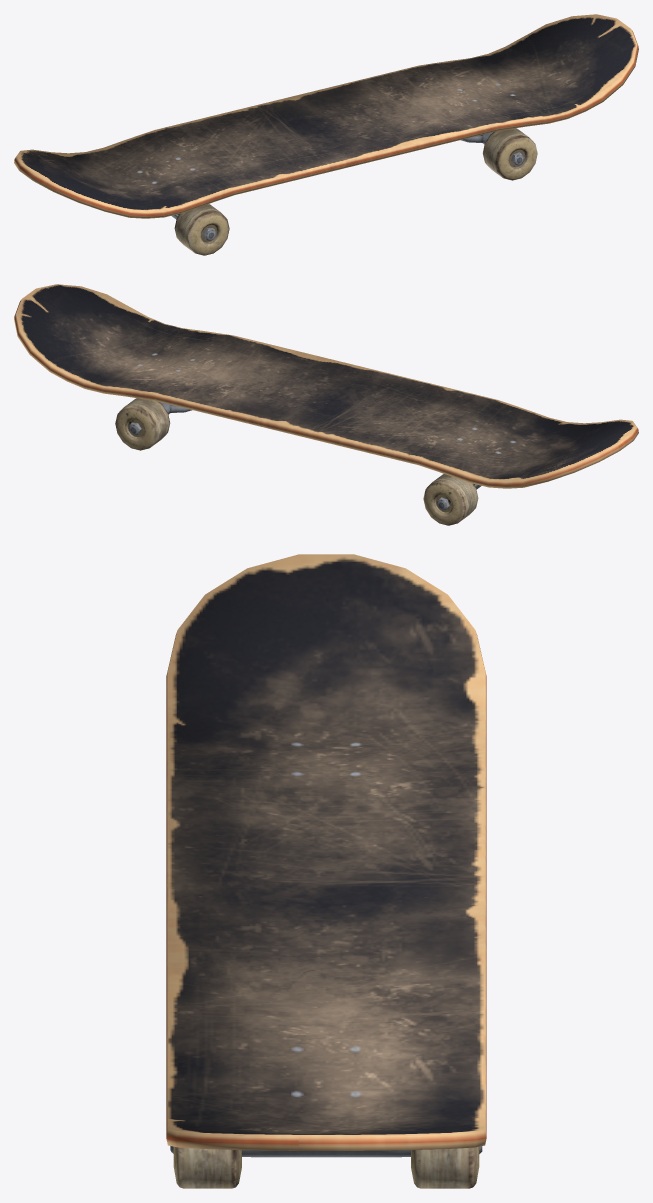
The model's file is o3_skateboard.glb.
3 renders of one model, top to bottom at view 1: azimuth 30°, elevation 25°; view 2: azimuth 150°, elevation 25°; view 3: azimuth 270°, elevation 25°, orthographic. The views are drawn at different scales.
Parts seen in each view (by area): view 1: sb_modello; view 2: sb_modello; view 3: sb_modello.
Boxes of the visible parts, x1,y1,x2,y2 form: sb_modello: (14,14,638,255); sb_modello: (14,284,638,525); sb_modello: (166,554,486,1188).
Bounding box in the file's own units: 0.7974 × 0.12 × 0.1844.
Materials: 1 (1 with a texture image).
